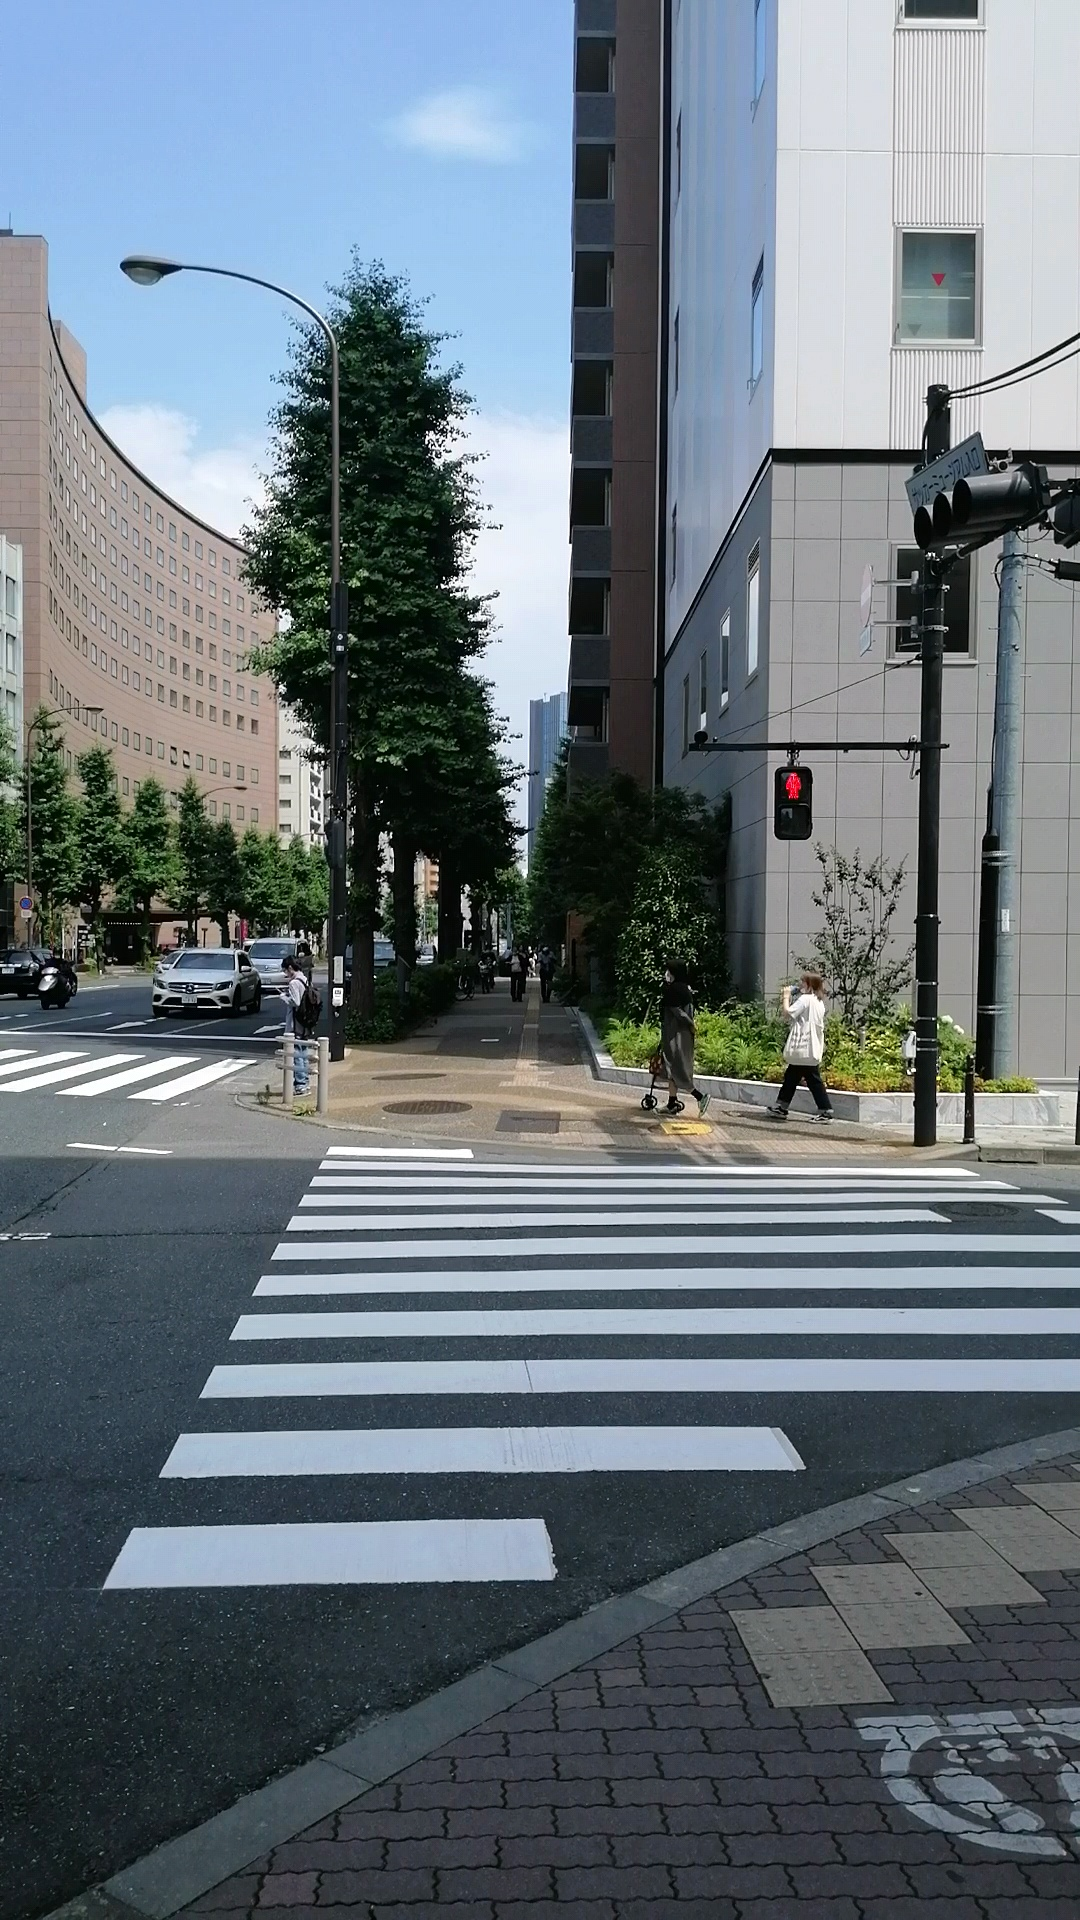red: (773, 766, 814, 841)
